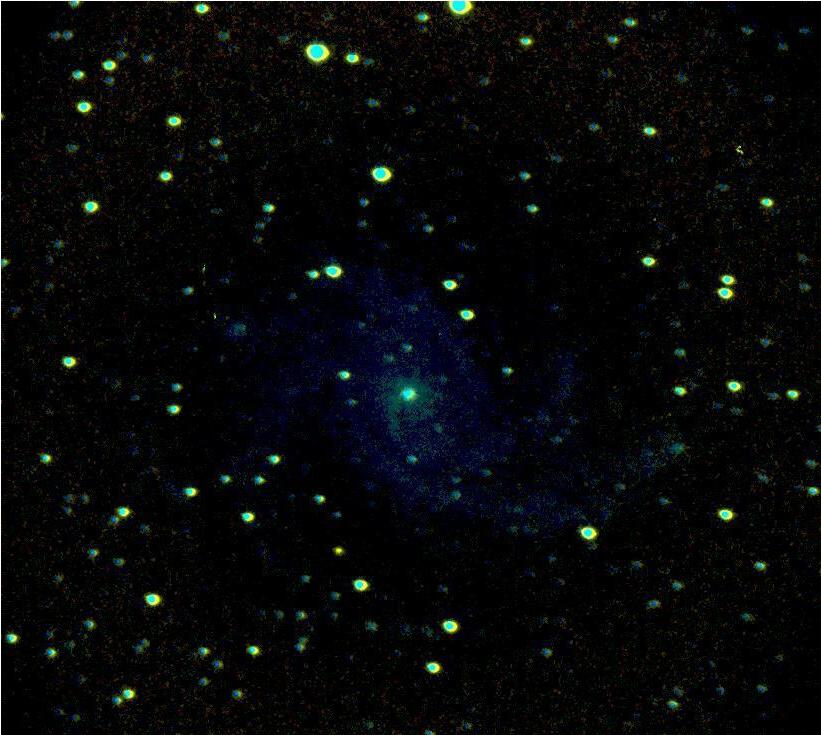star: (322, 533, 352, 563)
